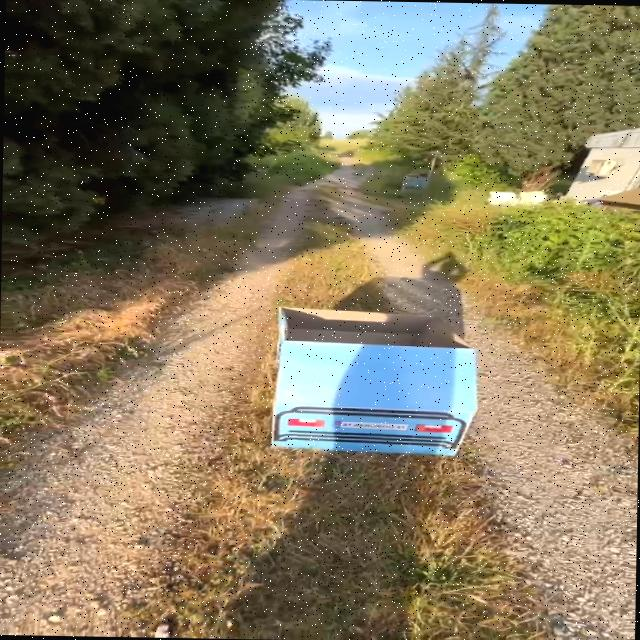blue_car: (234, 280, 513, 482)
